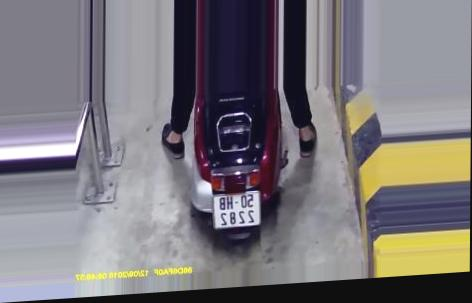License_Plate: (210, 187, 262, 233)
